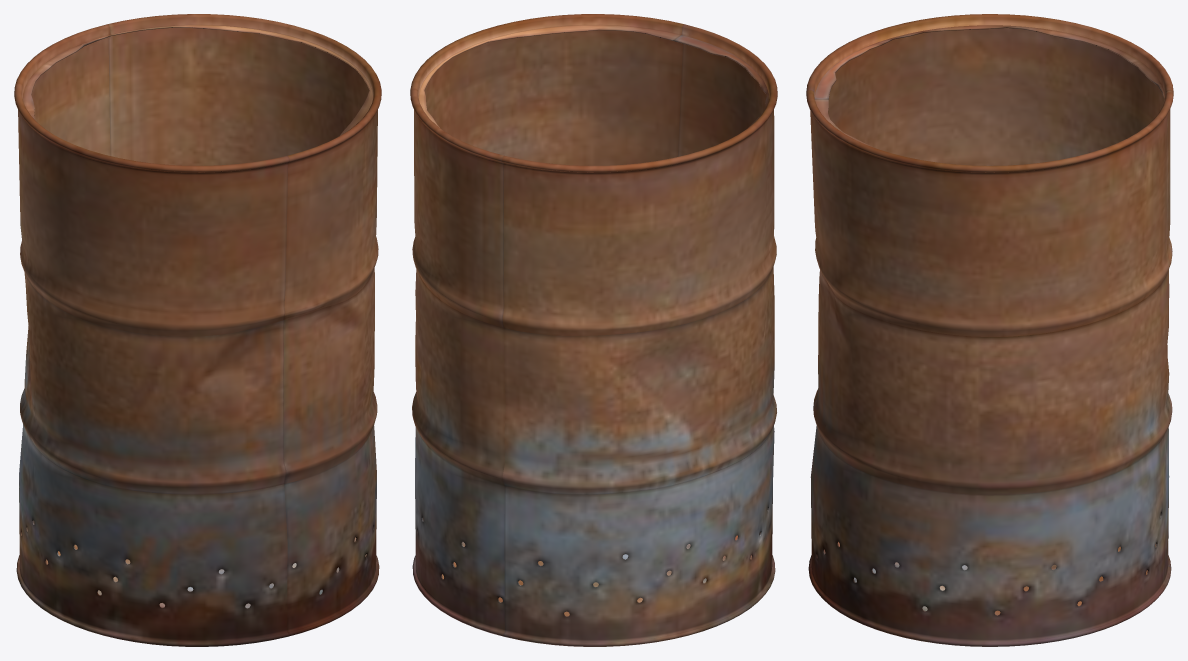
The model's file is stove.glb.
3 views of the same model, side by side, from view 1: azimuth 30°, elevation 25°; view 2: azimuth 150°, elevation 25°; view 3: azimuth 270°, elevation 25° (orthographic).
Visible parts, largest first — view 1: barrel_stove; view 2: barrel_stove; view 3: barrel_stove.
Part boxes in pixels (x1,y1,x2,y2): barrel_stove: (14,14,381,646); barrel_stove: (410,14,777,646); barrel_stove: (806,14,1173,646).
Size of what is drawn, in the model's own units: 0.5926 by 0.8556 by 0.5926.
Materials: 1 (1 with a texture image).
